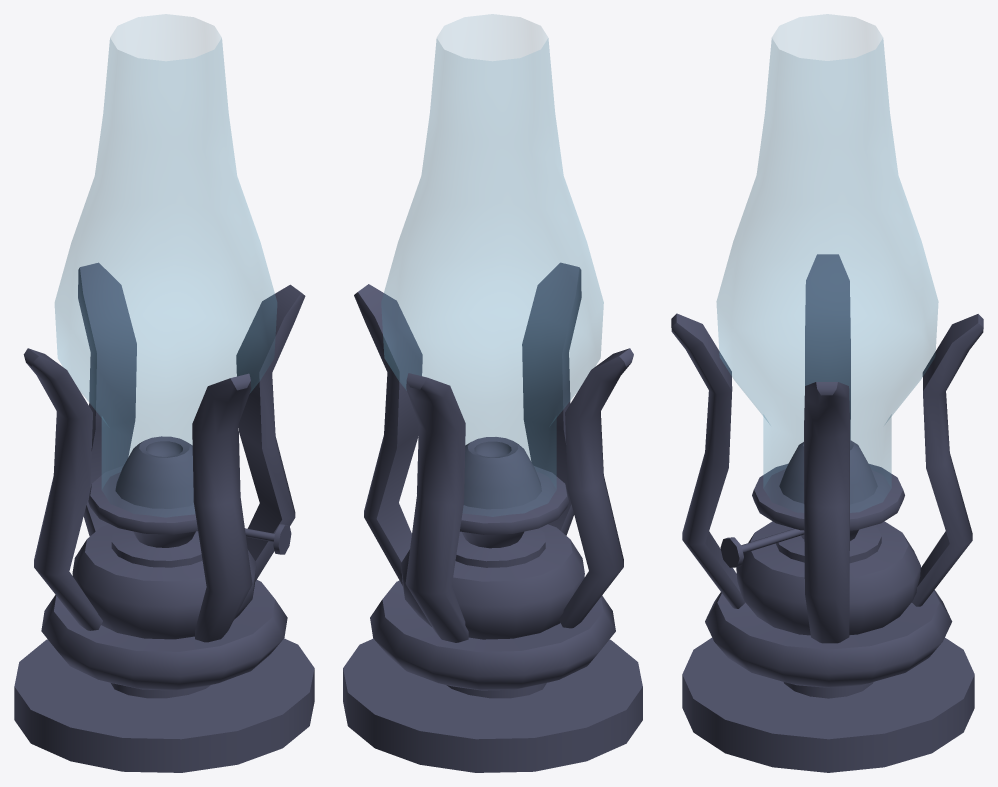
File: OilLampVar2.fbx
The picture shows the model from 3 angles, left to right: view 1: azimuth 30°, elevation 25°; view 2: azimuth 150°, elevation 25°; view 3: azimuth 270°, elevation 25°; orthographic projection.
Parts seen in each view (by area): view 1: OilLampVar2; view 2: OilLampVar2; view 3: OilLampVar2.
Part boxes in pixels (left/top/right/bottom): OilLampVar2: left=14, top=14, right=314, bottom=772; OilLampVar2: left=343, top=14, right=642, bottom=772; OilLampVar2: left=671, top=14, right=983, bottom=772.
Bounding box in the file's own units: 13.77 × 32.64 × 13.77.
2 materials, 1 textured.
